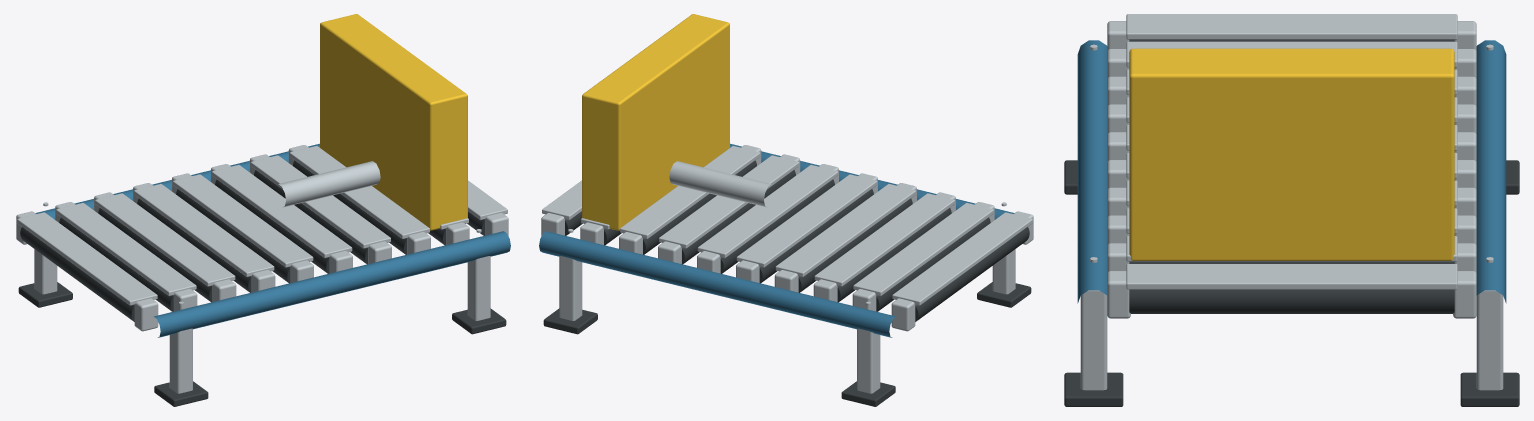
File: recycling-centre-and-material-sorting-horizontal-bale--52f9cd9b__31125.glb
3 renders of one model, left to right at view 1: azimuth 30°, elevation 25°; view 2: azimuth 150°, elevation 25°; view 3: azimuth 270°, elevation 25°, orthographic. The views are drawn at different scales.
Visible parts, largest first — view 1: horizontal-bale-ejector; view 2: horizontal-bale-ejector; view 3: horizontal-bale-ejector.
Boxes of the visible parts, x1,y1,x2,y2 form: horizontal-bale-ejector: (16,14,510,406); horizontal-bale-ejector: (539,14,1033,406); horizontal-bale-ejector: (1064,14,1519,406).
Bounding box in the file's own units: 2.16 × 1.2 × 1.54.
